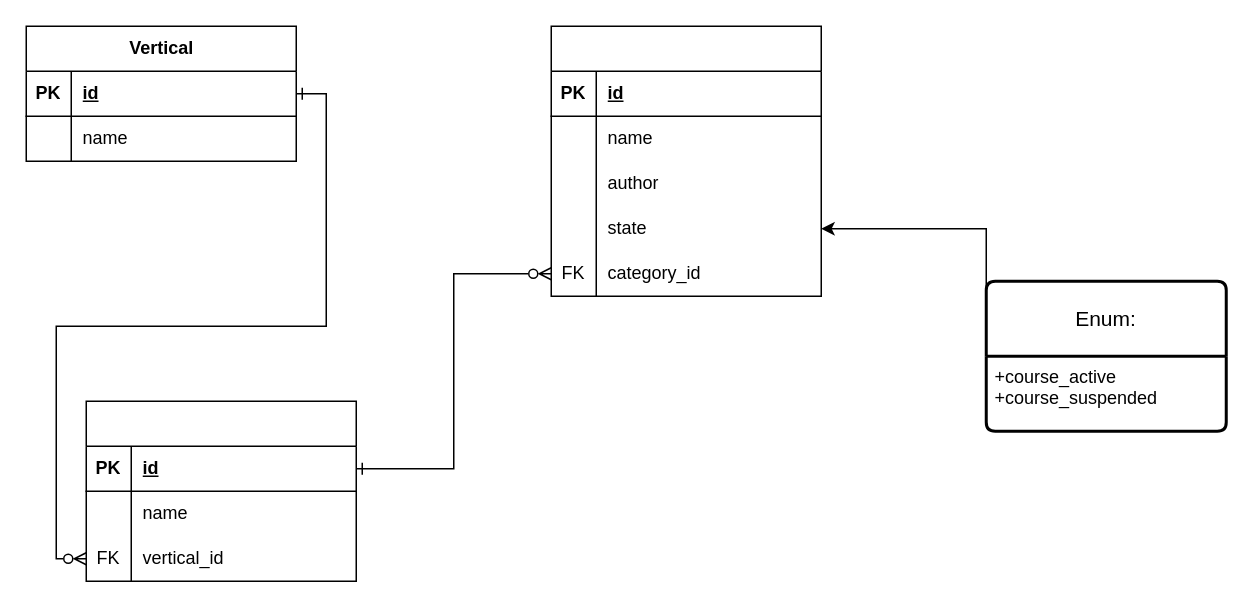
Image size: 1254x608. Some labels were removed from this diagram. Each missing label, with the box of its shape:
Category: (85, 400, 356, 581)
Course: (550, 25, 821, 296)
